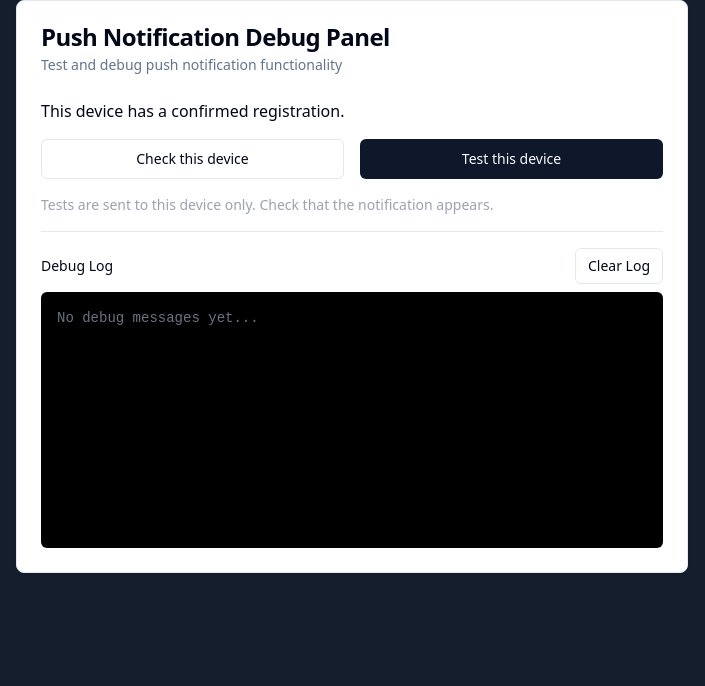
Scenario: fixed current-device push diagnostics › checks an intent saved by another view instead of overwriting it from a stale panel
Click the button "Test this device" at (512, 159), box [360,139,663,179]
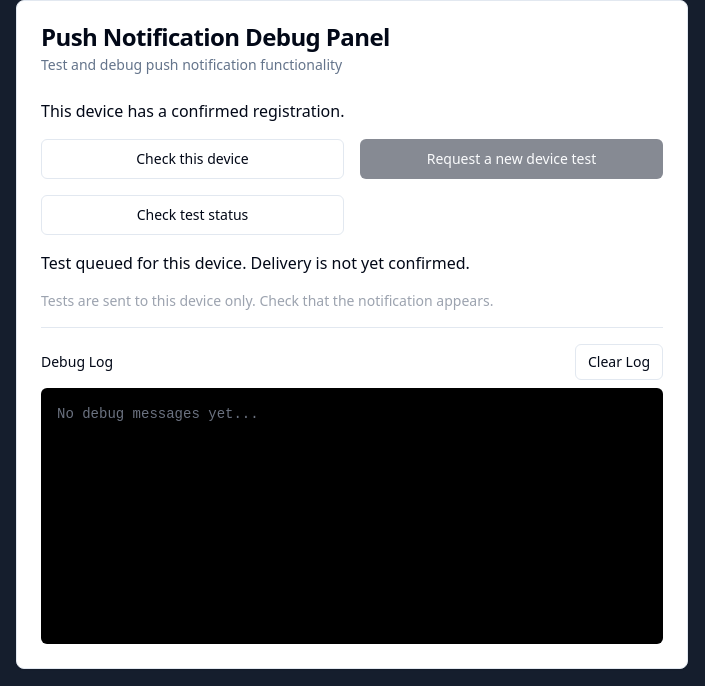
Now the text "Test queued for this device. Delivery is not yet confirmed." is shown, box [41,252,470,274]
